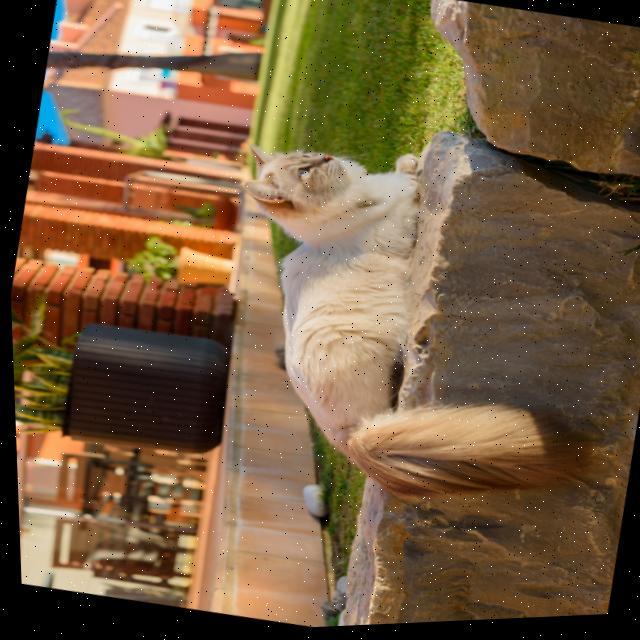Neva Masquerade: (177, 115, 640, 548)
